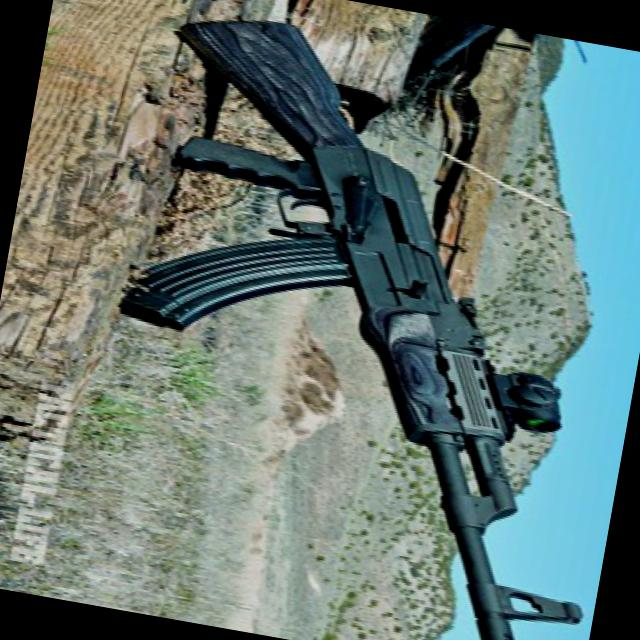long weapon: (70, 0, 639, 639)
